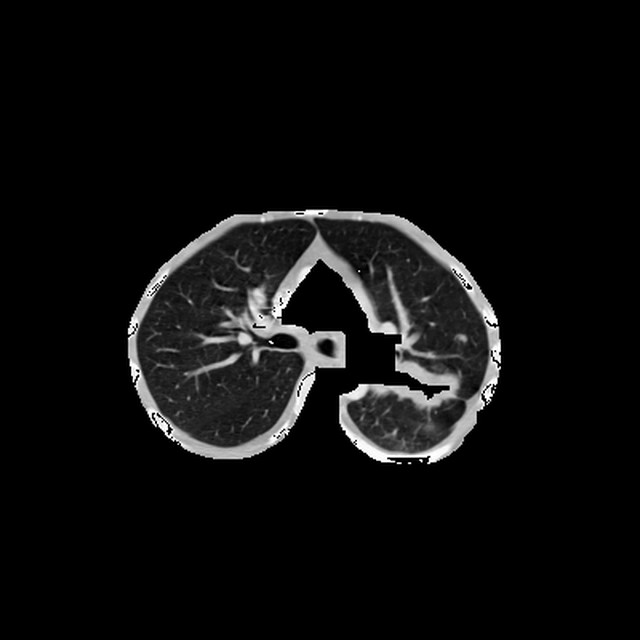PN: (456, 333, 466, 342)
